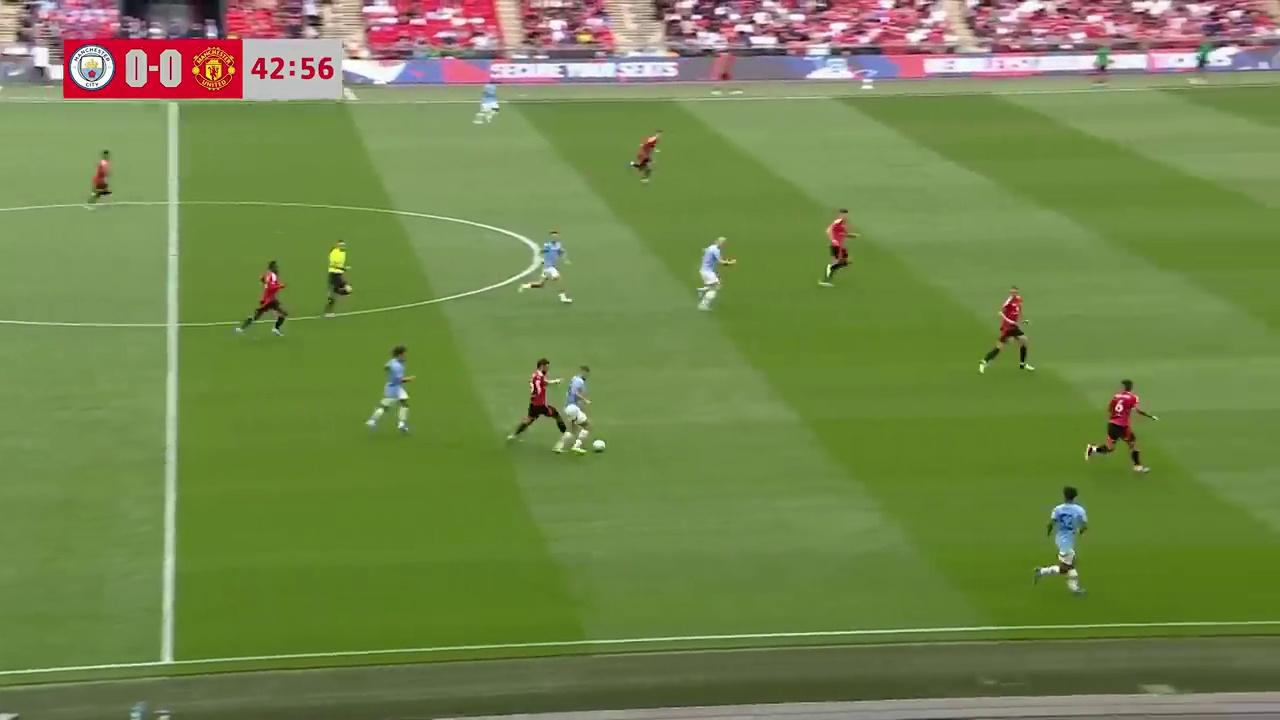ball: (591, 437, 606, 453)
player: (1089, 378, 1159, 475), (1032, 485, 1089, 595), (506, 357, 567, 450), (978, 285, 1034, 376), (364, 344, 416, 434), (556, 365, 605, 454), (236, 259, 289, 338), (818, 207, 861, 286), (520, 229, 569, 292), (696, 236, 737, 310), (628, 130, 661, 183), (86, 149, 114, 207), (473, 78, 500, 124)
referee: (322, 239, 353, 318)
